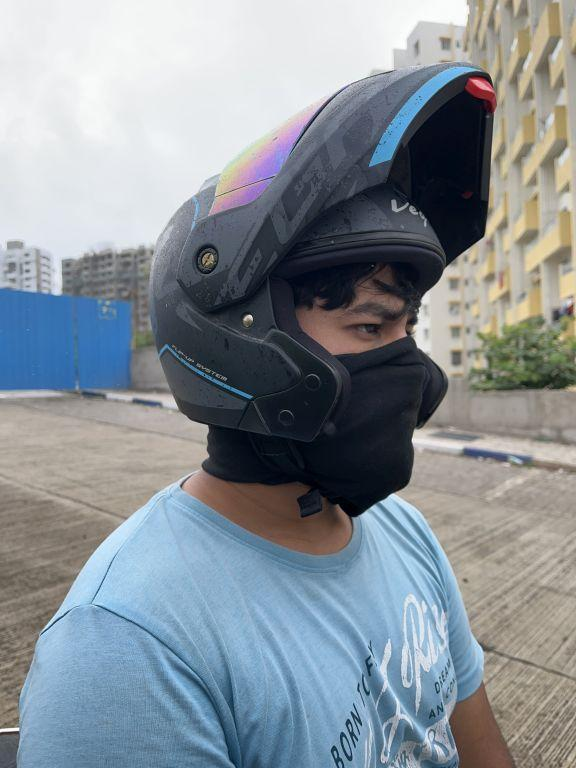helmet: (142, 57, 510, 502)
